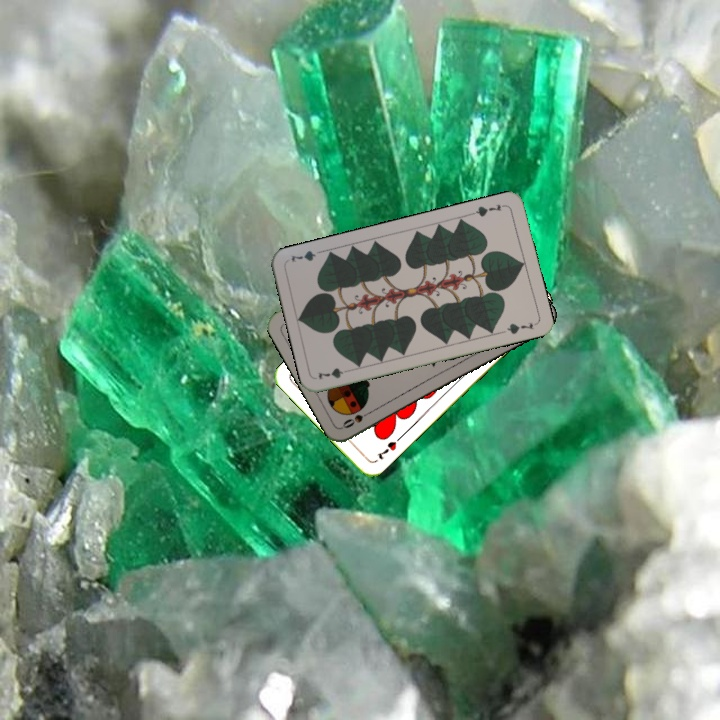G7: (468, 200, 508, 219), (314, 364, 355, 382)
H7: (373, 437, 399, 462)
SO: (338, 406, 376, 431)
